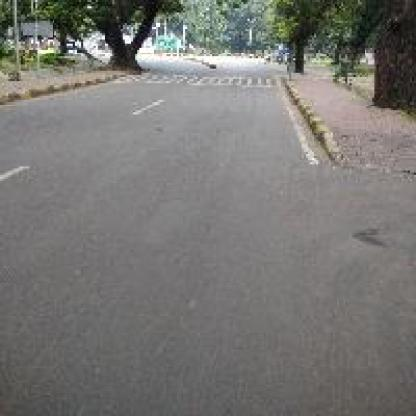Speed Bump: (122, 73, 276, 87)
